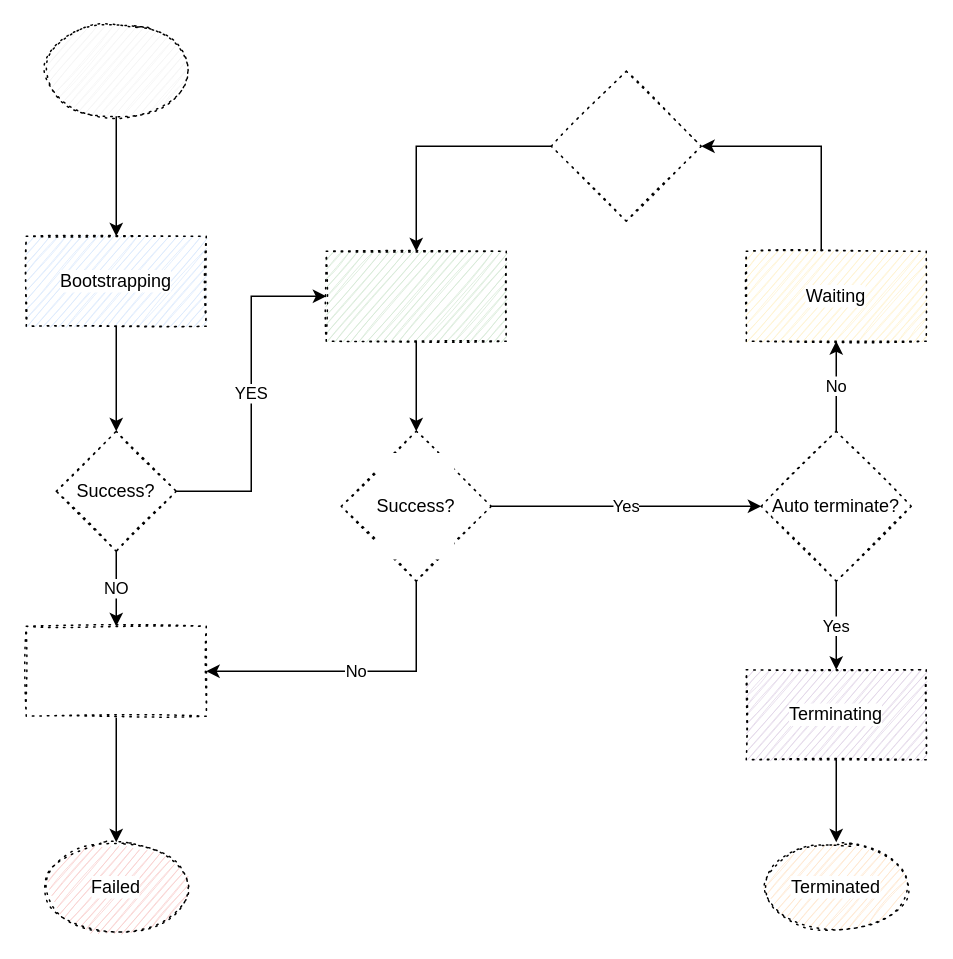
This 953x959 diagram has some shape labels left out. The shapes that lost their labels are listed below. From the top down, each one's box as (x1, y1, x2, y2) in pixels, then its label:
(40, 25, 191, 116): Launch cluster
(550, 70, 701, 221): Adding steps
(325, 250, 506, 341): Running
(25, 625, 206, 716): Shut down Cluster
